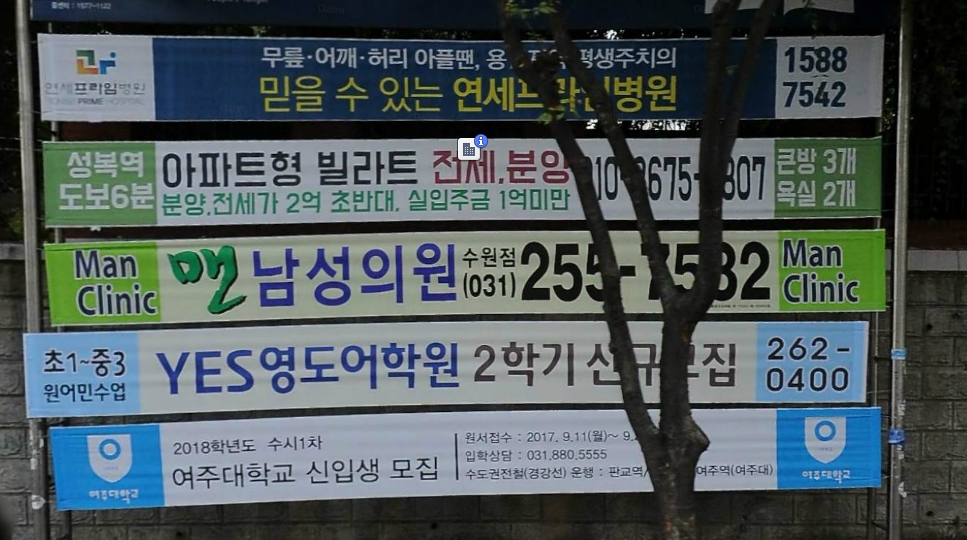banner: (25, 130, 907, 238), (1, 220, 892, 326), (1, 316, 903, 420), (20, 27, 898, 129), (26, 415, 897, 497)
